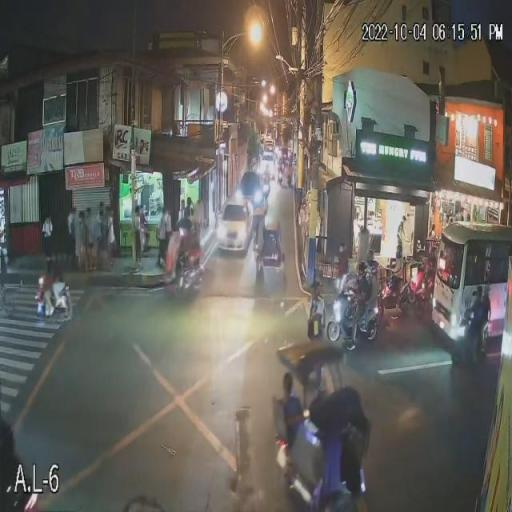helmet: (356, 262, 368, 278), (472, 290, 484, 304), (371, 263, 380, 278), (396, 245, 404, 259)
motorcycle: (327, 294, 380, 343), (28, 280, 79, 324), (382, 285, 416, 316)
rider: (369, 264, 384, 316), (353, 267, 366, 326), (470, 290, 488, 331), (392, 248, 404, 289), (42, 251, 53, 292), (50, 257, 62, 289)
